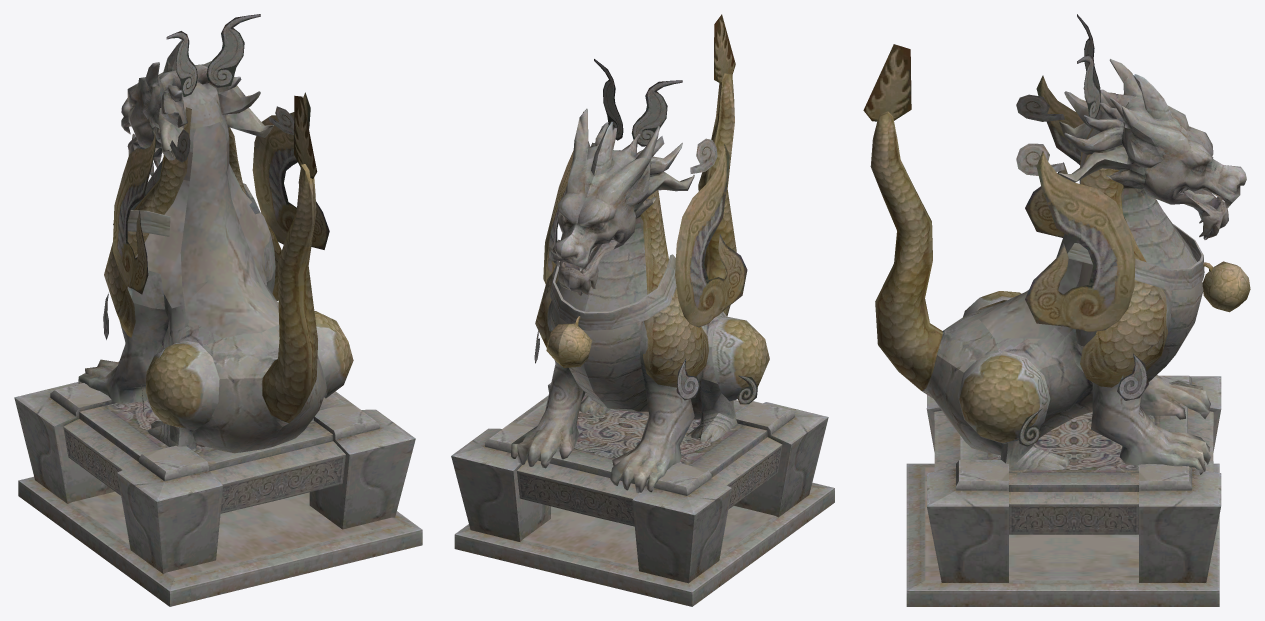
Rendered from diaoxiang2.FBX.
The picture shows the model from 3 angles, left to right: view 1: azimuth 30°, elevation 25°; view 2: azimuth 150°, elevation 25°; view 3: azimuth 270°, elevation 25°; orthographic projection. The views are drawn at different scales.
Visible parts, largest first — view 1: Mesh_0078; view 2: Mesh_0078; view 3: Mesh_0078.
Part boxes in pixels (<box>): Mesh_0078: <box>14,14,422,606</box>; Mesh_0078: <box>451,14,834,606</box>; Mesh_0078: <box>863,14,1250,606</box>.
Bounding box in the file's own units: 4.62 × 8.36 × 5.8.
